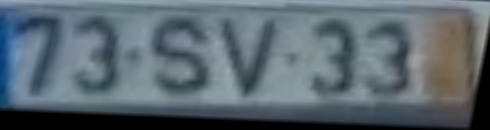3: (66, 14, 128, 104), (305, 17, 362, 104), (361, 20, 416, 106)
7: (14, 15, 73, 104)
S: (143, 13, 216, 105)
V: (212, 17, 286, 104)
